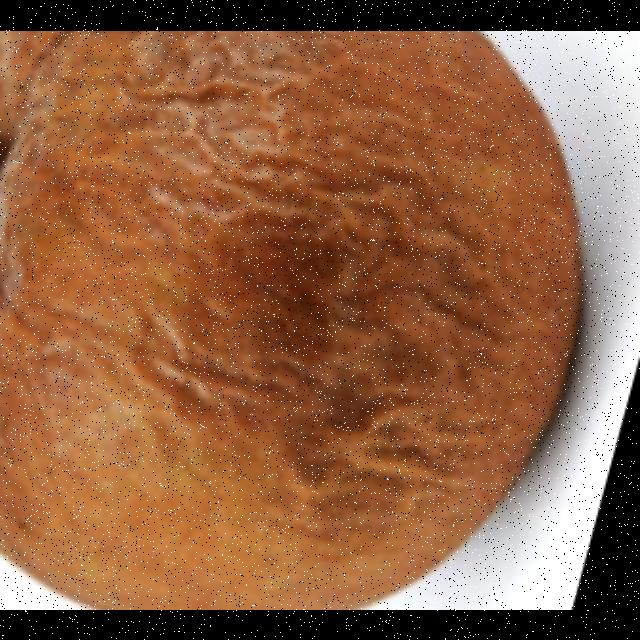Apel Tidak Segar: (0, 30, 587, 609)
